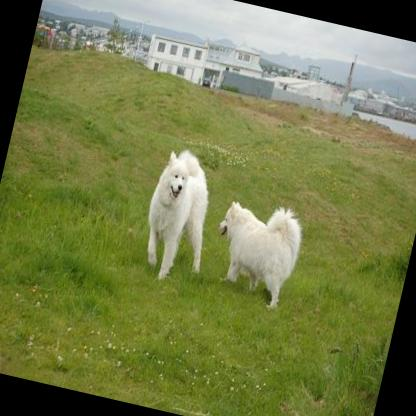Samoyed: (132, 140, 228, 284), (202, 194, 308, 313)
